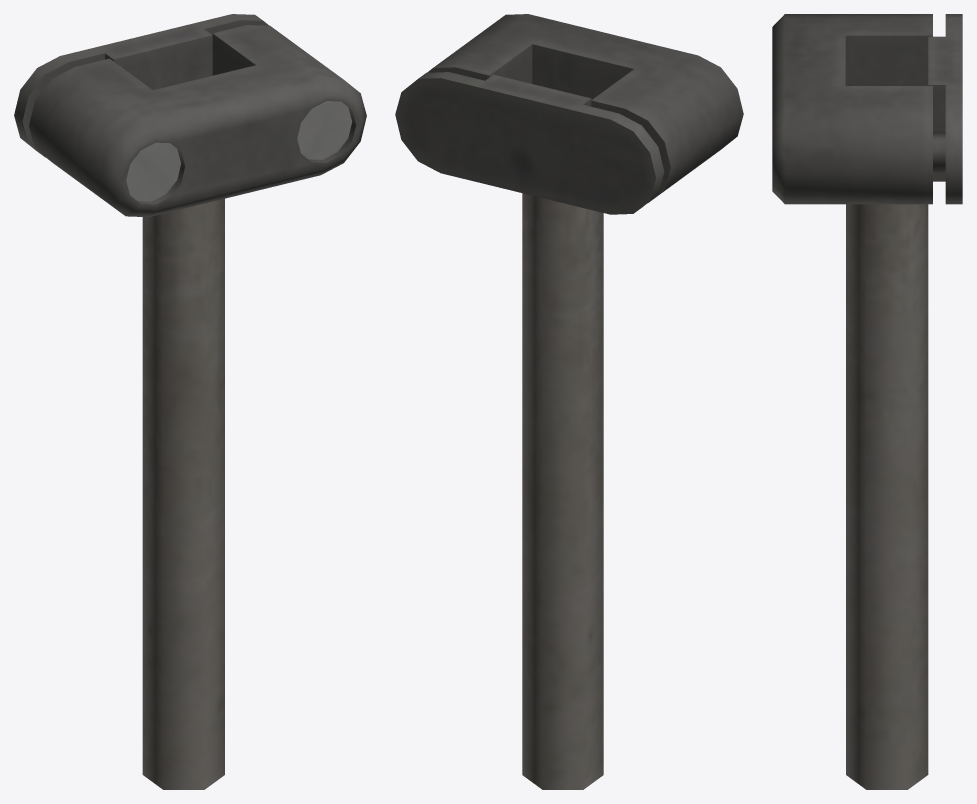
Rendered from cable_straight_short.glb.
3 views of the same model, side by side, from view 1: azimuth 30°, elevation 25°; view 2: azimuth 150°, elevation 25°; view 3: azimuth 270°, elevation 25° (orthographic).
Parts seen in each view (by area): view 1: cable_straight_short.001; view 2: cable_straight_short.001; view 3: cable_straight_short.001.
Part boxes in pixels (x1=…): cable_straight_short.001: x1=14, y1=14, x2=366, y2=789; cable_straight_short.001: x1=395, y1=14, x2=743, y2=789; cable_straight_short.001: x1=772, y1=14, x2=962, y2=789.
Size of the model in its own units: 0.0416 by 0.1073 by 0.0259.
Materials: 1 (1 with a texture image).
